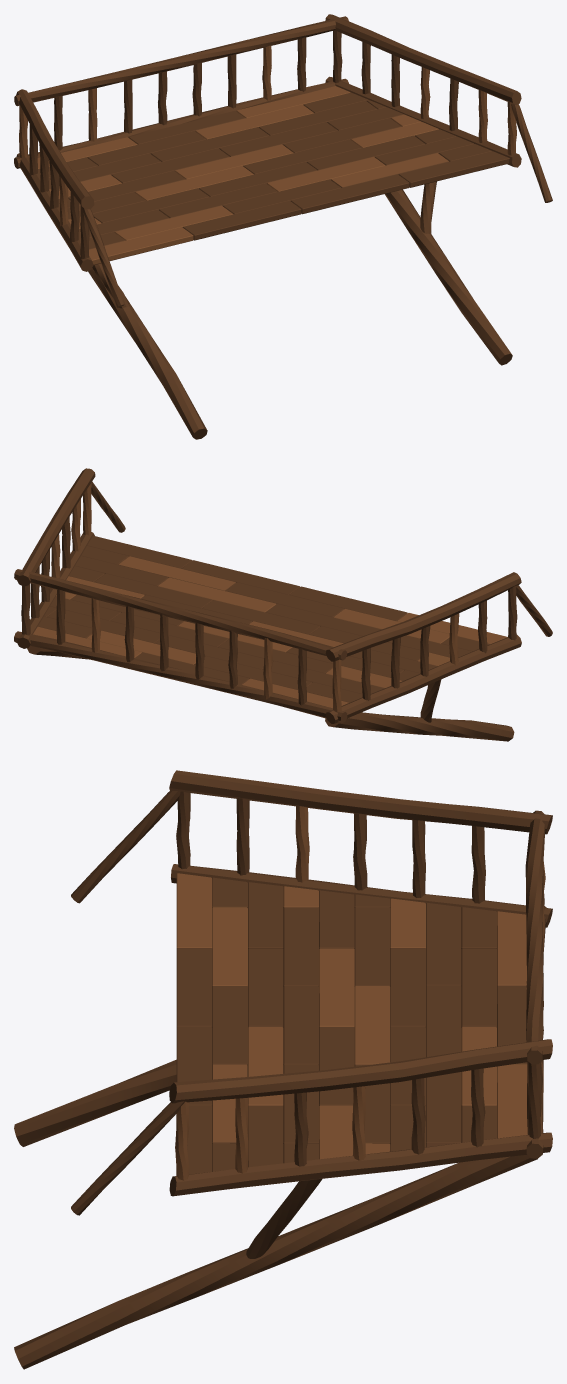
File: env_obj-viewpoint.fbx
3 views of the same model, one above another, from view 1: azimuth 30°, elevation 25°; view 2: azimuth 150°, elevation 25°; view 3: azimuth 270°, elevation 25° (orthographic). The views are drawn at different scales.
Parts seen in each view (by area): view 1: obj_viewpoint; view 2: obj_viewpoint; view 3: obj_viewpoint.
Boxes of the visible parts, box(x1,y1,x2,y2) form: obj_viewpoint: box(14, 14, 552, 439); obj_viewpoint: box(14, 468, 552, 741); obj_viewpoint: box(14, 770, 552, 1369).
Size of the model in its own units: 9.92 by 4.75 by 7.04.
